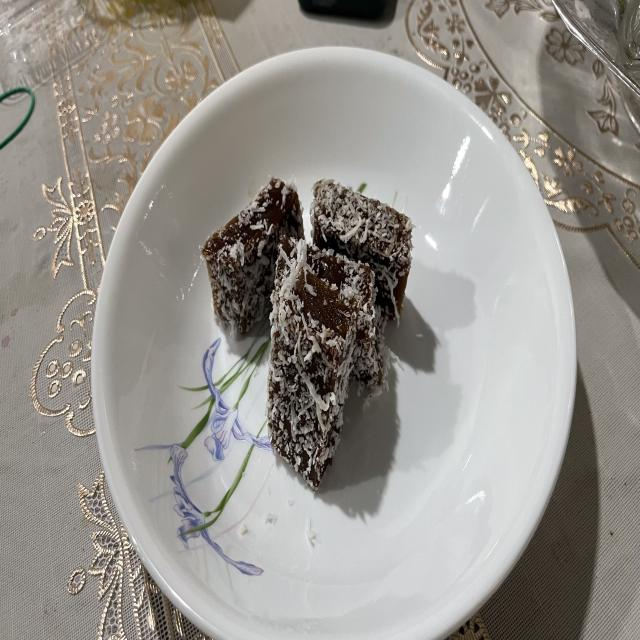kaswi: (264, 259, 354, 492), (279, 237, 387, 390), (201, 178, 304, 333), (310, 180, 412, 320)
